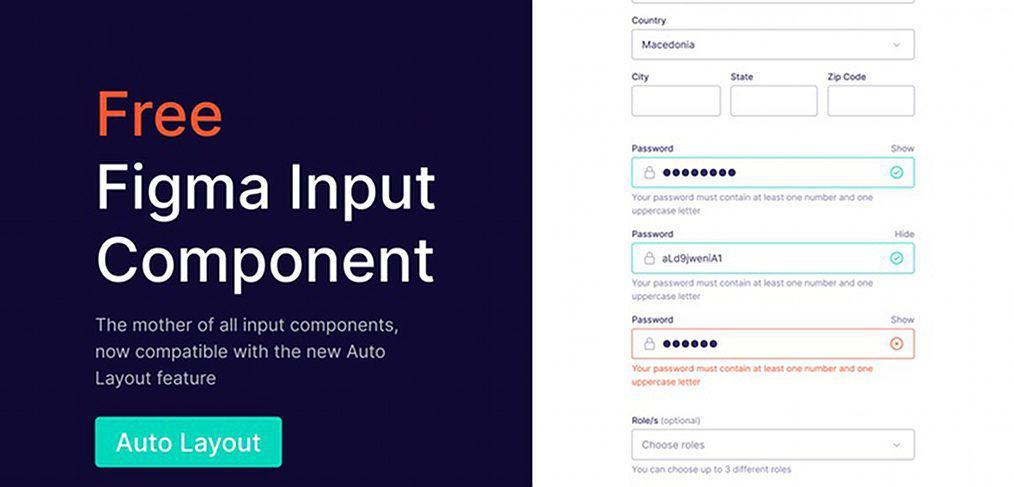button: (96, 417, 283, 468)
dropdown: (633, 430, 916, 461), (633, 30, 916, 61)
input: (633, 159, 916, 190), (633, 329, 915, 360), (633, 244, 917, 274), (828, 85, 916, 117), (732, 86, 819, 116), (632, 88, 721, 116)
label: (630, 417, 706, 427), (632, 141, 677, 157), (625, 15, 675, 29), (631, 227, 679, 241), (633, 314, 677, 327), (827, 70, 872, 82), (630, 68, 654, 85), (730, 70, 757, 83)
